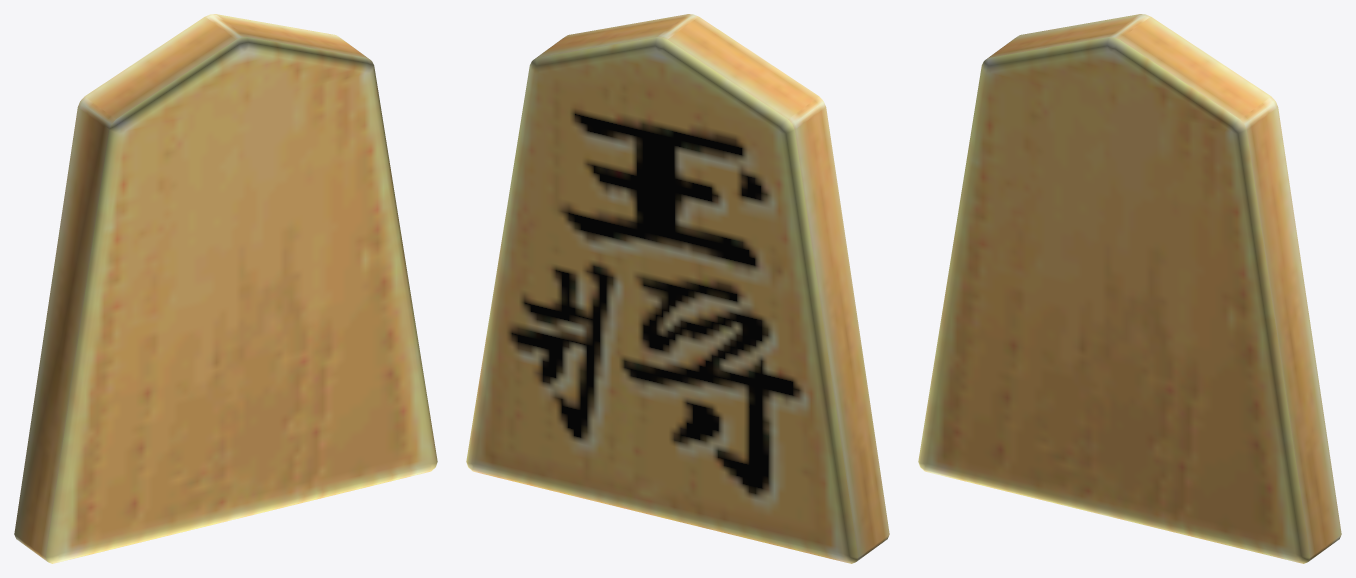
Rendered from Jiangqi.ico.obj.
The picture shows the model from 3 angles, left to right: view 1: azimuth 30°, elevation 25°; view 2: azimuth 150°, elevation 25°; view 3: azimuth 330°, elevation 25°; orthographic projection.
Size of the model in its own units: 1.49 by 1.74 by 0.25.
1 material, 1 textured.
